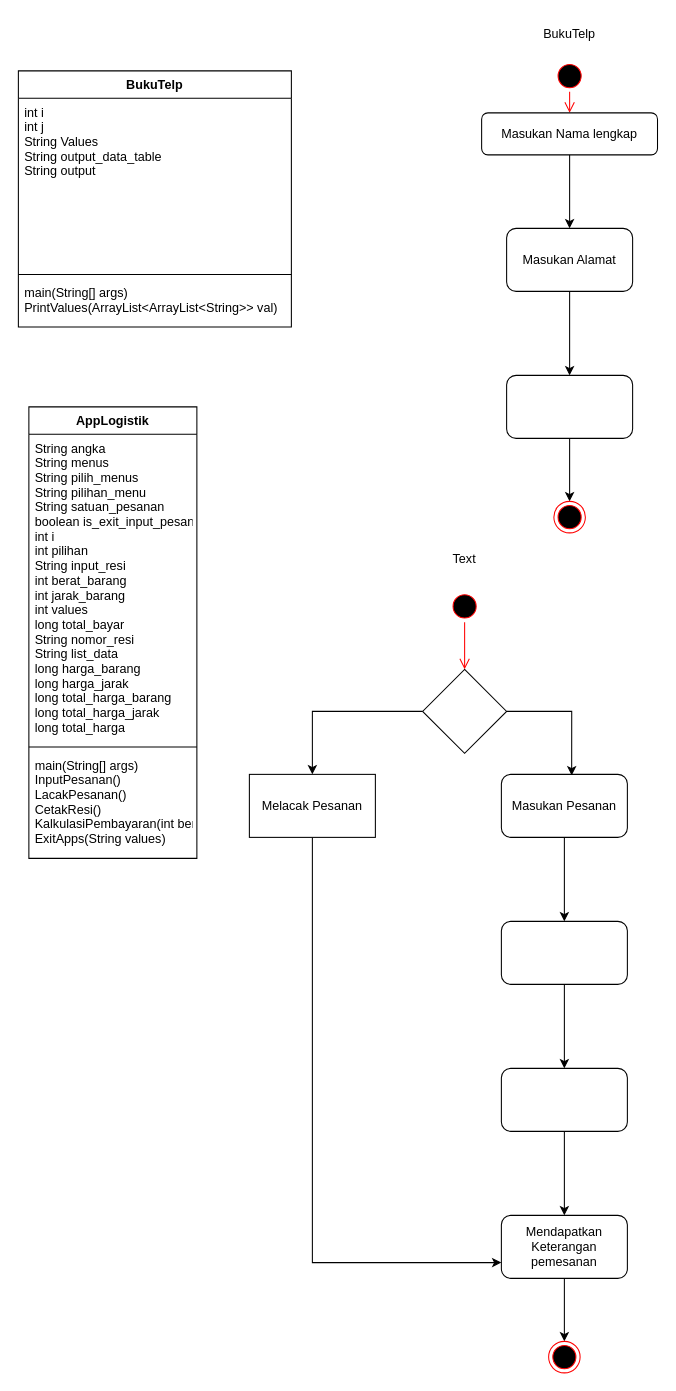
This 676x1391 diagram has some shape labels left out. Each missing label, with the box of its shape:
Masukan Berat: (500, 920, 627, 984)
Masukan Jarak: (500, 1067, 627, 1131)
Masukan No.Telp: (506, 374, 633, 438)
